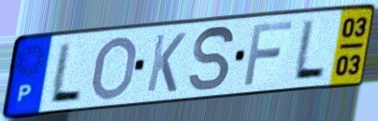F: (241, 19, 296, 88)
K: (144, 31, 189, 95)
L: (46, 40, 84, 103), (290, 17, 328, 80)
O: (89, 34, 140, 102)
S: (187, 23, 237, 94)
